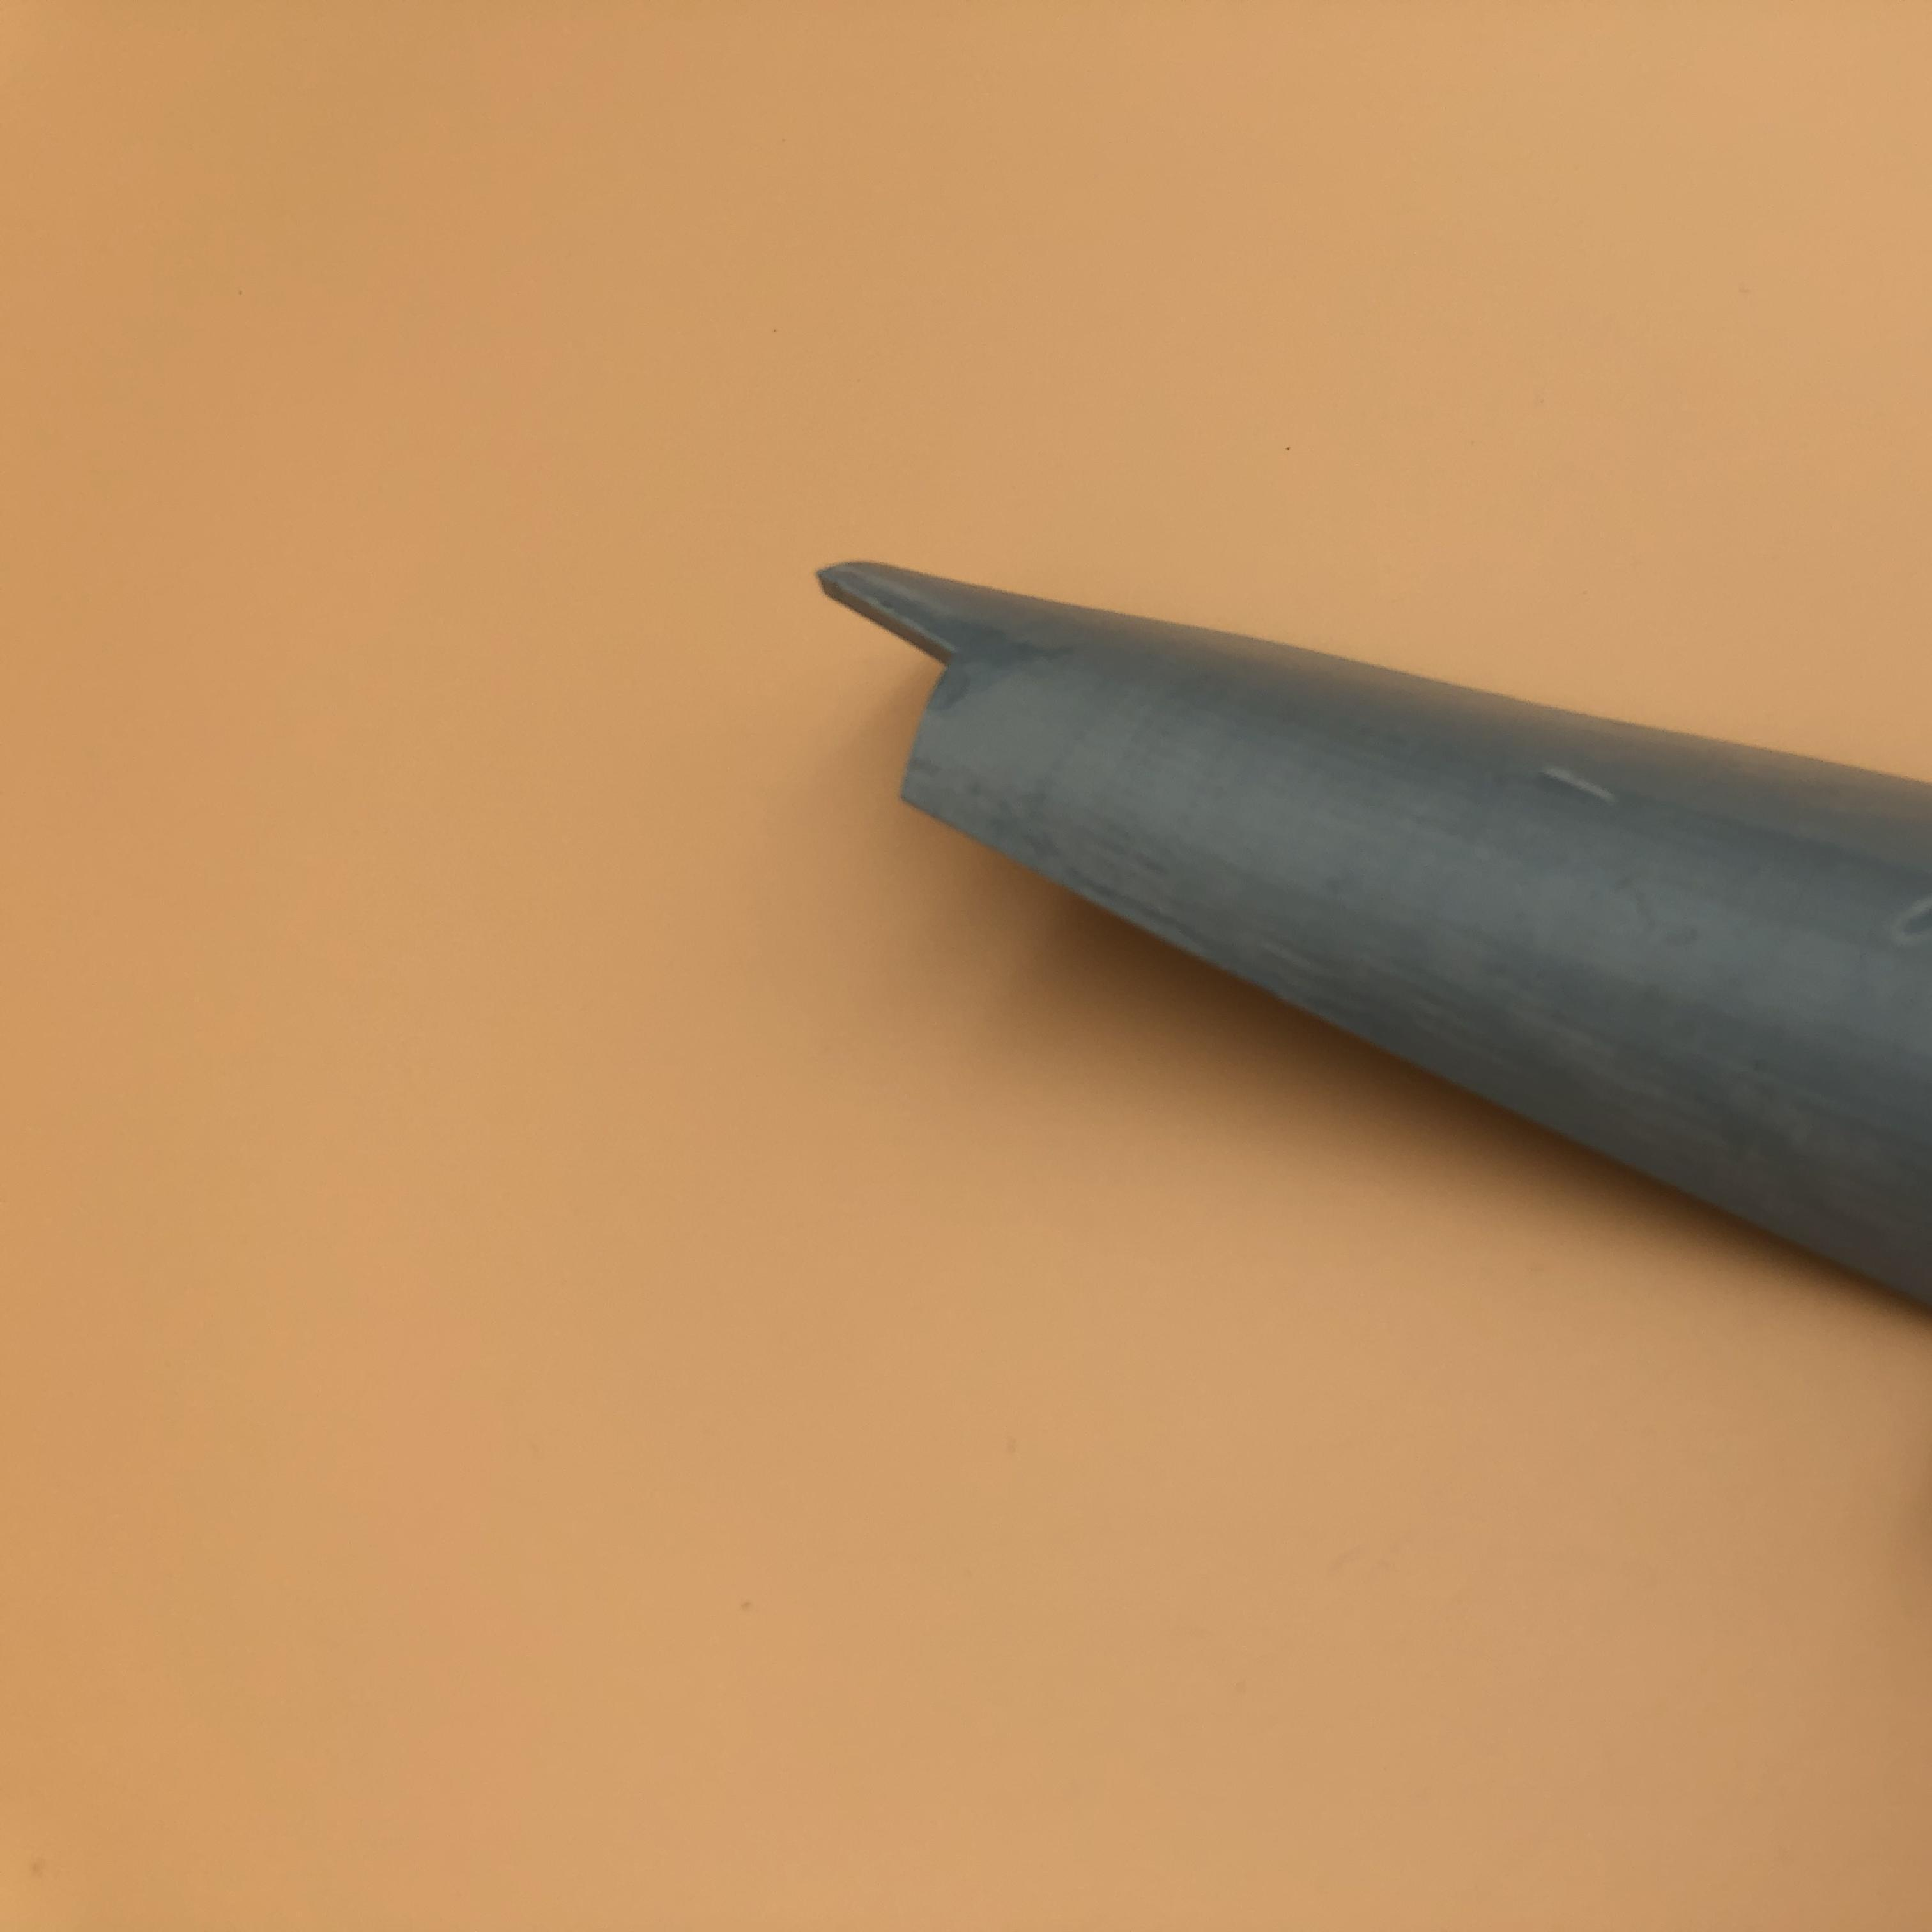fracture: (844, 591, 993, 816)
